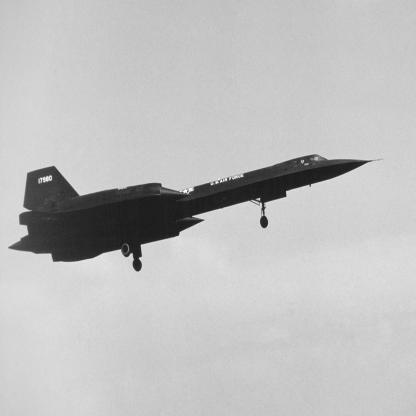SR71: (9, 154, 386, 274)
